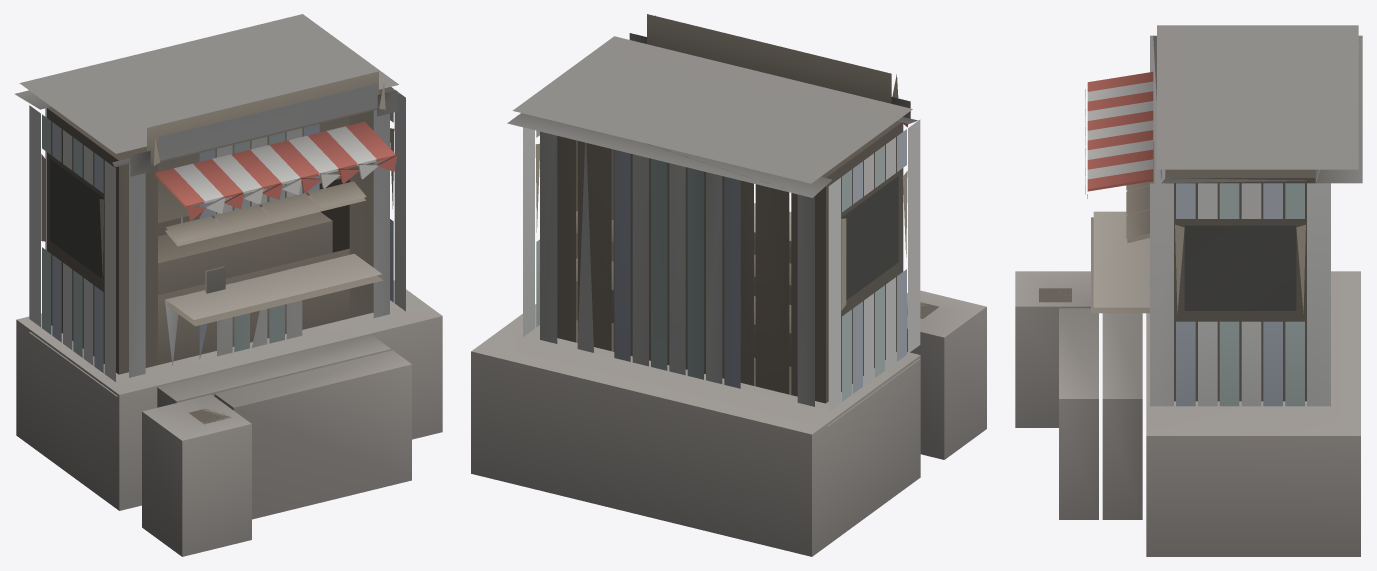
Rendered from kiosk.lod.glb.
3 views of the same model, side by side, from view 1: azimuth 30°, elevation 25°; view 2: azimuth 150°, elevation 25°; view 3: azimuth 270°, elevation 25° (orthographic). The views are drawn at different scales.
Visible parts, largest first — view 1: kiosk; view 2: kiosk; view 3: kiosk.
Part boxes in pixels (x1,y1,x2,y2): kiosk: [15, 14, 442, 556]; kiosk: [471, 14, 986, 556]; kiosk: [1015, 25, 1362, 556].
Size of the model in its own units: 4.48 by 4.96 by 3.98.
